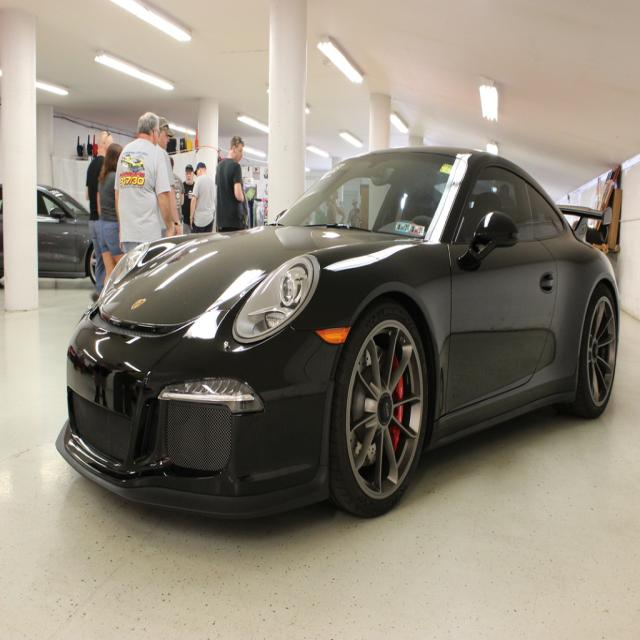car: (53, 147, 624, 519)
